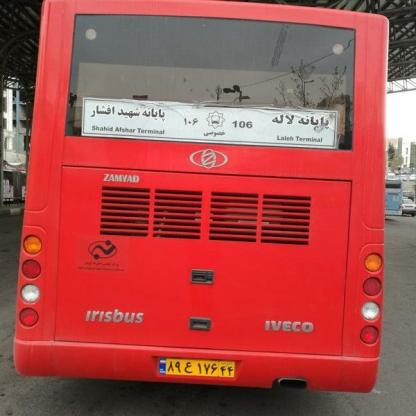Bus: (0, 0, 393, 404)
Car: (394, 192, 416, 224)
